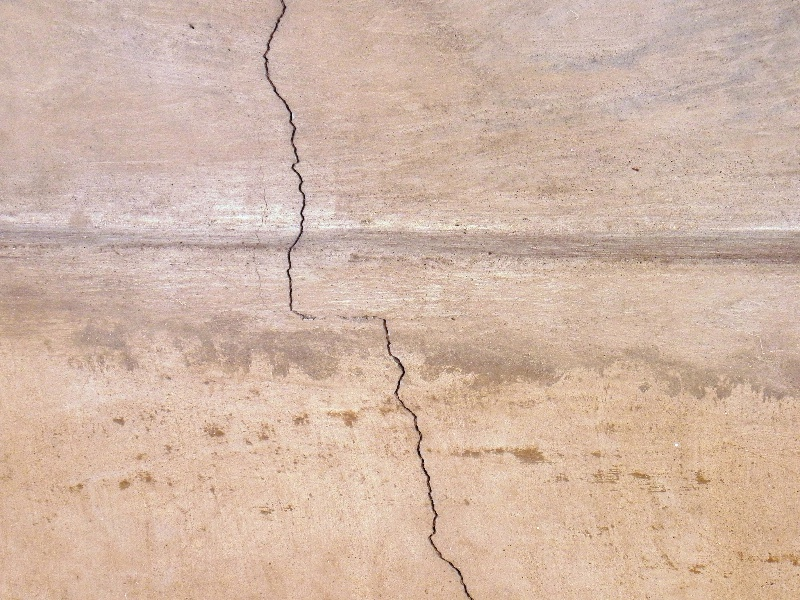Crack: (249, 3, 479, 600)
